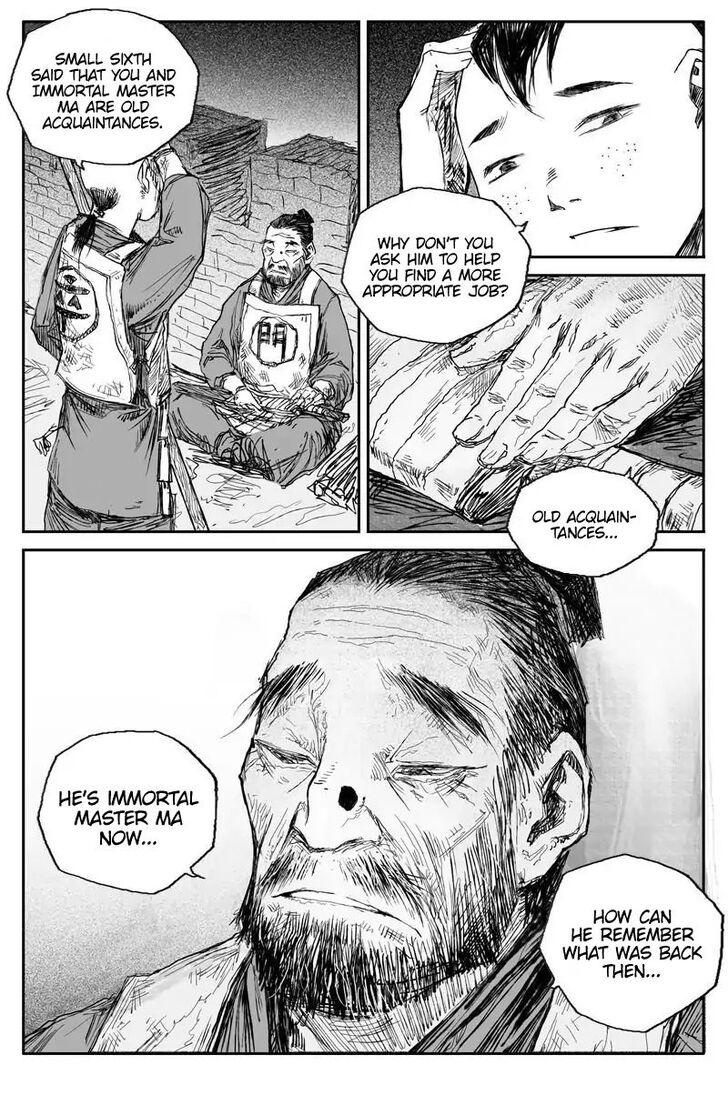Bubble: (537, 851, 725, 1034), (6, 7, 200, 170), (340, 185, 532, 348), (36, 728, 219, 899), (504, 463, 662, 581)
